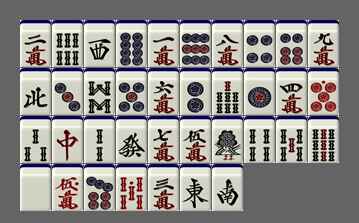0m: (52, 164, 83, 211)
0p: (308, 68, 339, 115)
0s: (116, 164, 147, 211)
1m: (148, 20, 179, 67)
1p: (244, 68, 275, 115)
1s: (212, 116, 243, 163)
1z: (180, 164, 211, 211)
2m: (20, 20, 51, 67)
2p: (180, 68, 211, 115)
2s: (84, 116, 115, 163)
2z: (212, 164, 243, 211)
3m: (148, 164, 179, 211)
3p: (52, 68, 83, 115)
3s: (20, 116, 51, 163)
3z: (84, 20, 115, 67)
4m: (276, 68, 307, 115)
4p: (244, 20, 275, 67)
4s: (244, 116, 275, 163)
4z: (20, 68, 51, 115)
5m: (180, 116, 211, 163)
5p: (116, 68, 147, 115)
5s: (276, 116, 307, 163)
5z: (20, 164, 51, 211)
6m: (148, 68, 179, 115)
6p: (276, 20, 307, 67)
6s: (52, 20, 83, 67)
6z: (116, 116, 147, 163)
7m: (148, 116, 179, 163)
7p: (84, 164, 115, 211)
7s: (212, 68, 243, 115)
7z: (52, 116, 83, 163)
8m: (212, 20, 243, 67)
8p: (116, 20, 147, 67)
8s: (84, 68, 115, 115)
9m: (308, 20, 339, 67)
9p: (180, 20, 211, 67)
9s: (308, 116, 339, 163)
